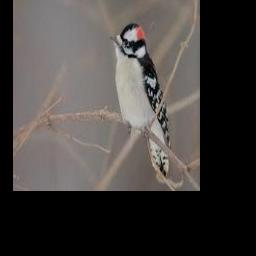Woodpecker: (110, 23, 171, 178)
